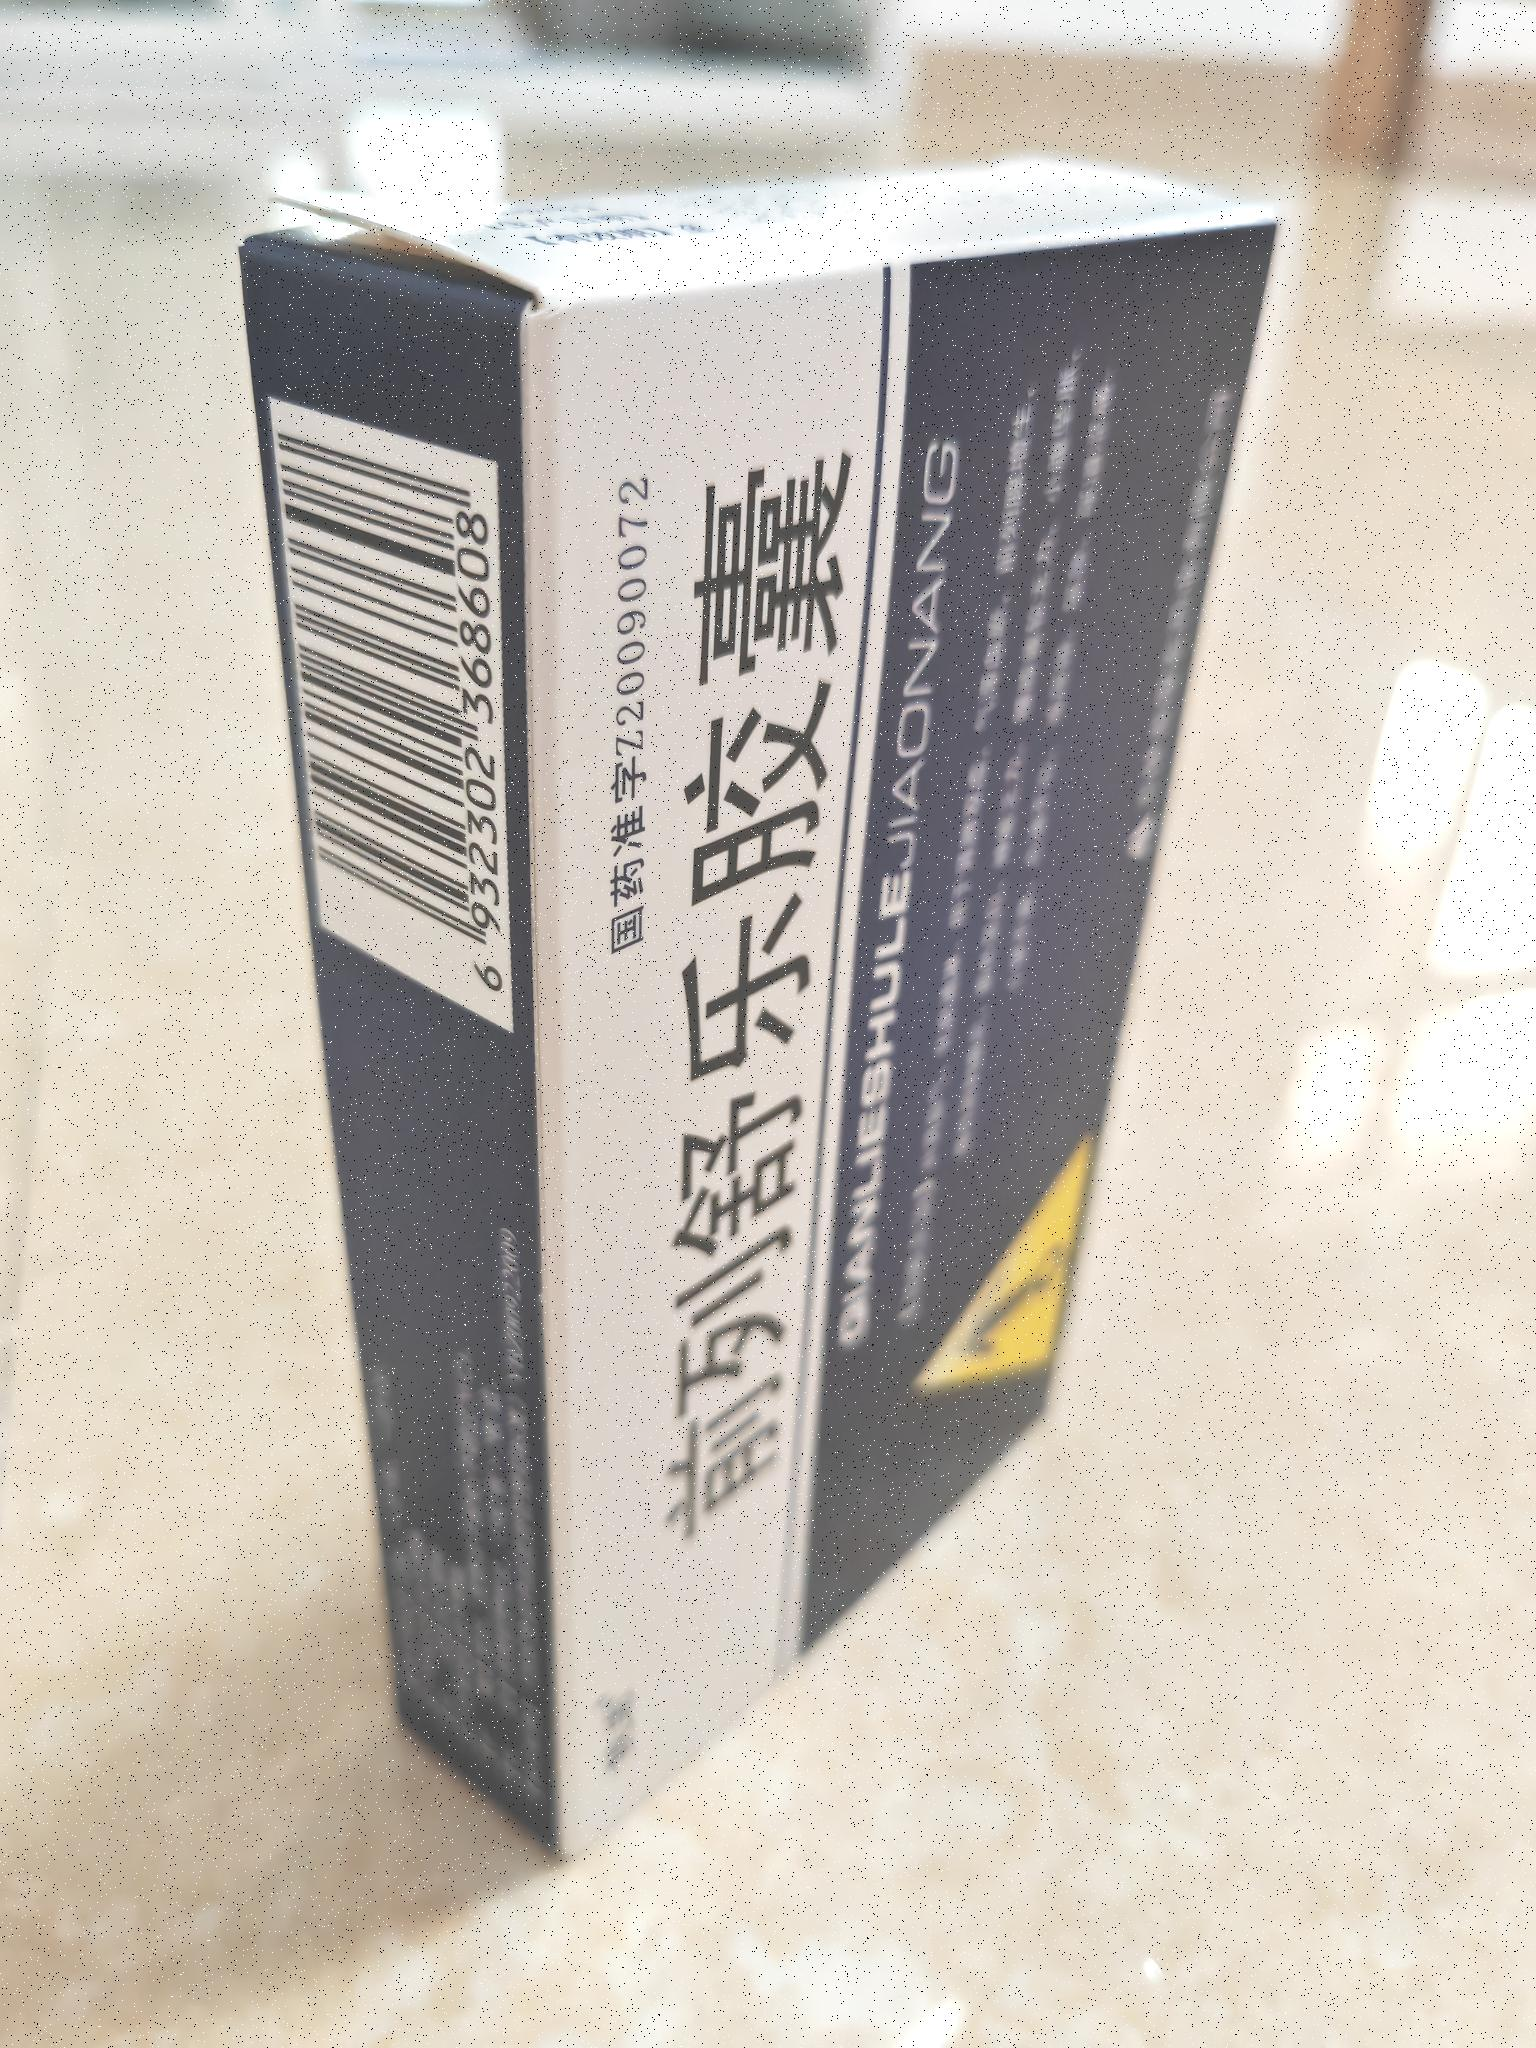Medicine2: (210, 135, 1300, 1877)
